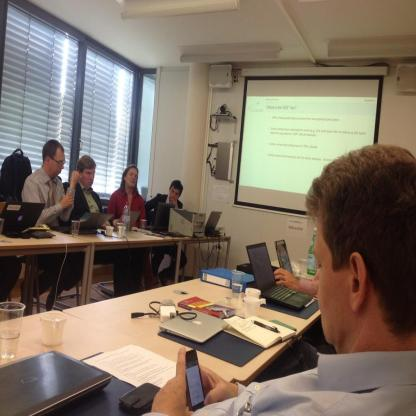board: (0, 350, 113, 416), (246, 241, 313, 310), (158, 310, 229, 343), (273, 240, 312, 280), (0, 302, 26, 362), (50, 212, 115, 235), (0, 202, 45, 235), (136, 202, 176, 233), (41, 312, 68, 352), (99, 212, 141, 233), (307, 227, 318, 279), (242, 295, 262, 318), (204, 212, 223, 233), (231, 269, 243, 295), (123, 202, 131, 235), (299, 258, 309, 279), (115, 221, 127, 238), (244, 287, 260, 299), (71, 221, 79, 238), (106, 225, 114, 237)
